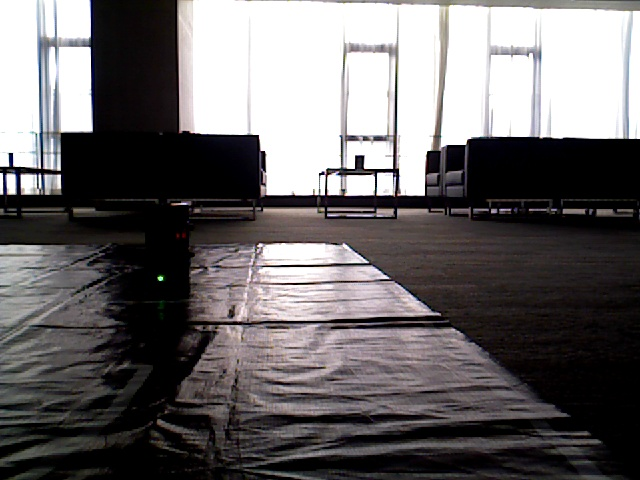green: (150, 211, 177, 297)
